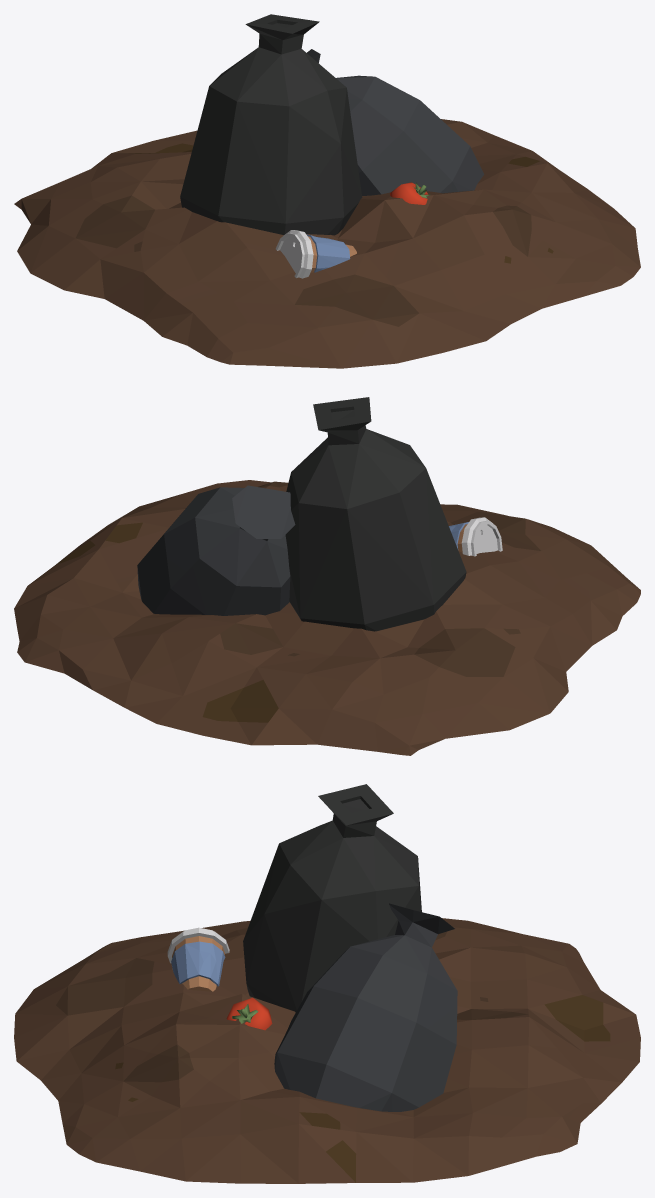
The model's file is SM_Garbage_01.glb.
3 renders of one model, top to bottom at view 1: azimuth 30°, elevation 25°; view 2: azimuth 150°, elevation 25°; view 3: azimuth 270°, elevation 25°, orthographic. The views are drawn at different scales.
Parts seen in each view (by area): view 1: SM_Garbage_01; view 2: SM_Garbage_01; view 3: SM_Garbage_01.
Part boxes in pixels (x1,y1,x2,y2): SM_Garbage_01: [14, 14, 640, 368]; SM_Garbage_01: [14, 397, 640, 755]; SM_Garbage_01: [14, 784, 640, 1183].
Bounding box in the file's own units: 1.28 × 0.709 × 1.27.
Materials: 1 (1 with a texture image).
